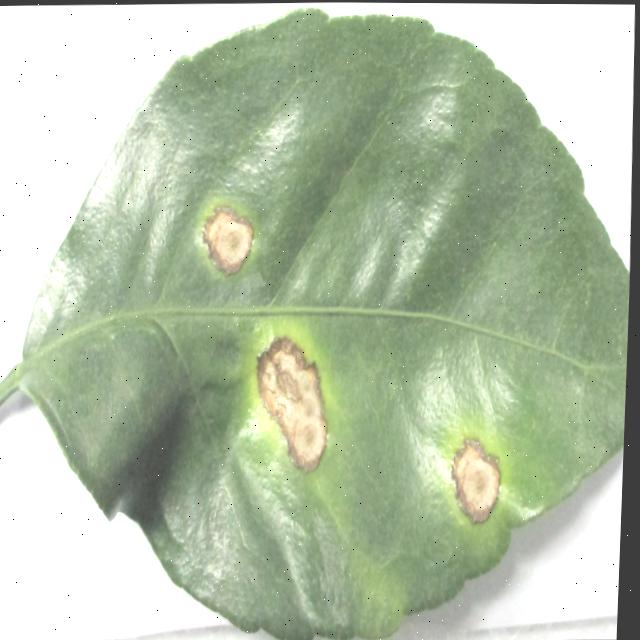antracnose: (0, 10, 629, 640), (257, 337, 327, 472), (451, 439, 500, 523), (203, 207, 253, 274)
